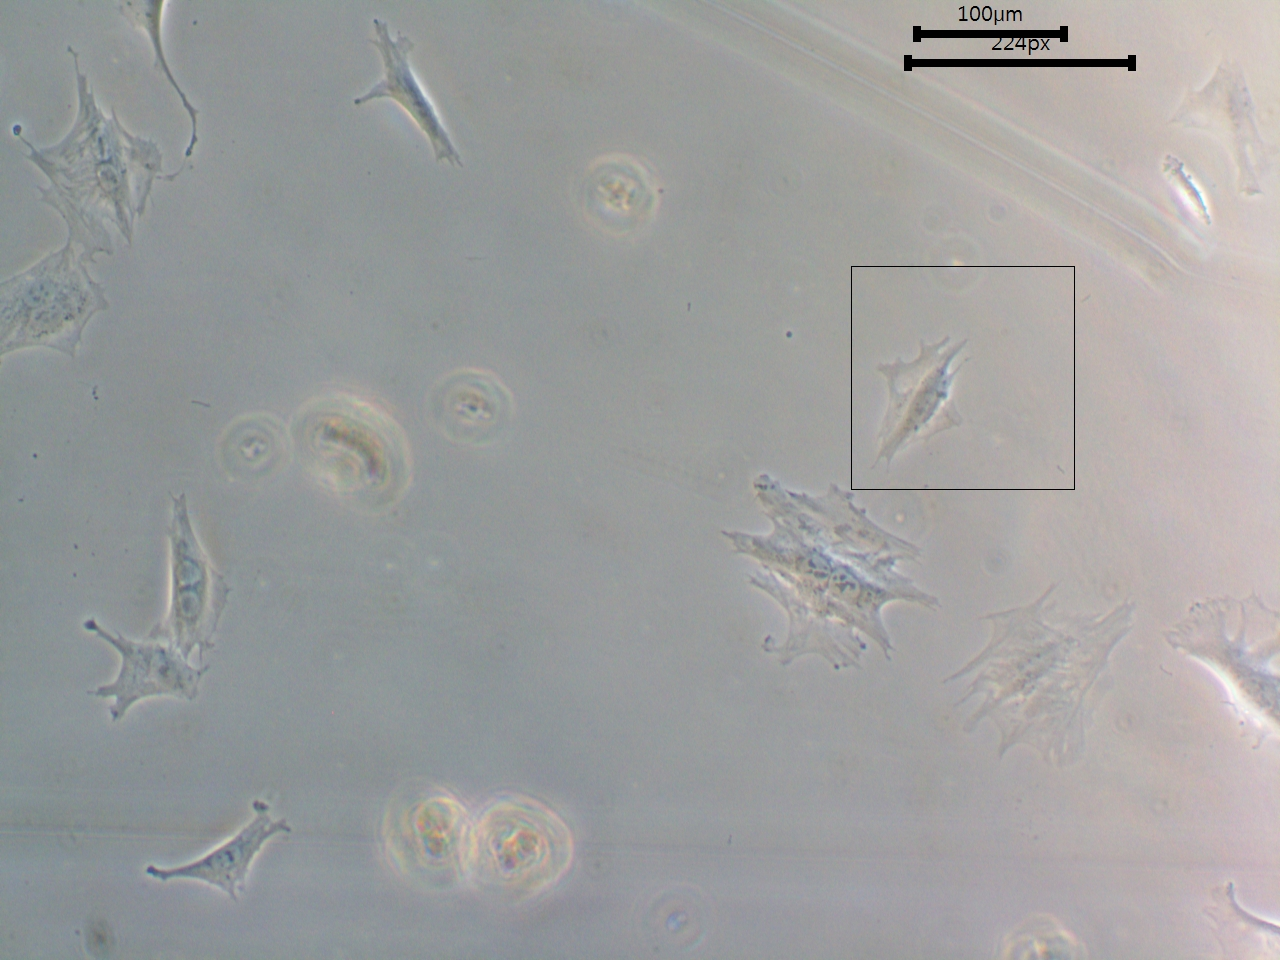dividing: (717, 471, 939, 683), (18, 47, 168, 265), (155, 491, 230, 664)
large-spread: (943, 579, 1138, 773)
medium-polygonal: (344, 12, 471, 173), (145, 793, 296, 912), (868, 327, 976, 466)
medium-spread: (72, 614, 203, 733), (1, 242, 111, 365)
